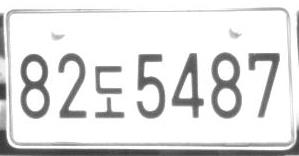2: (58, 52, 87, 118)
4: (171, 52, 203, 117)
5: (136, 53, 165, 118)
7: (248, 52, 280, 117)
8: (210, 52, 242, 119), (19, 53, 50, 119)
도: (94, 65, 124, 118)
